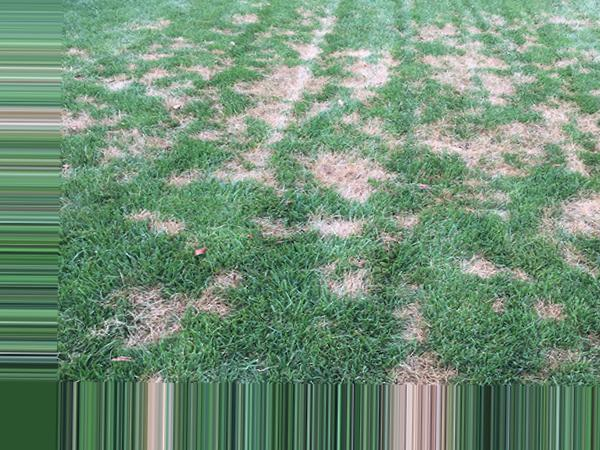patch: (435, 37, 521, 99), (319, 150, 404, 197), (456, 117, 517, 161), (392, 279, 436, 331), (543, 179, 585, 228), (203, 271, 241, 315), (345, 54, 395, 87), (128, 292, 171, 330), (259, 67, 308, 99), (338, 256, 371, 291), (62, 106, 107, 128), (153, 77, 189, 99)
